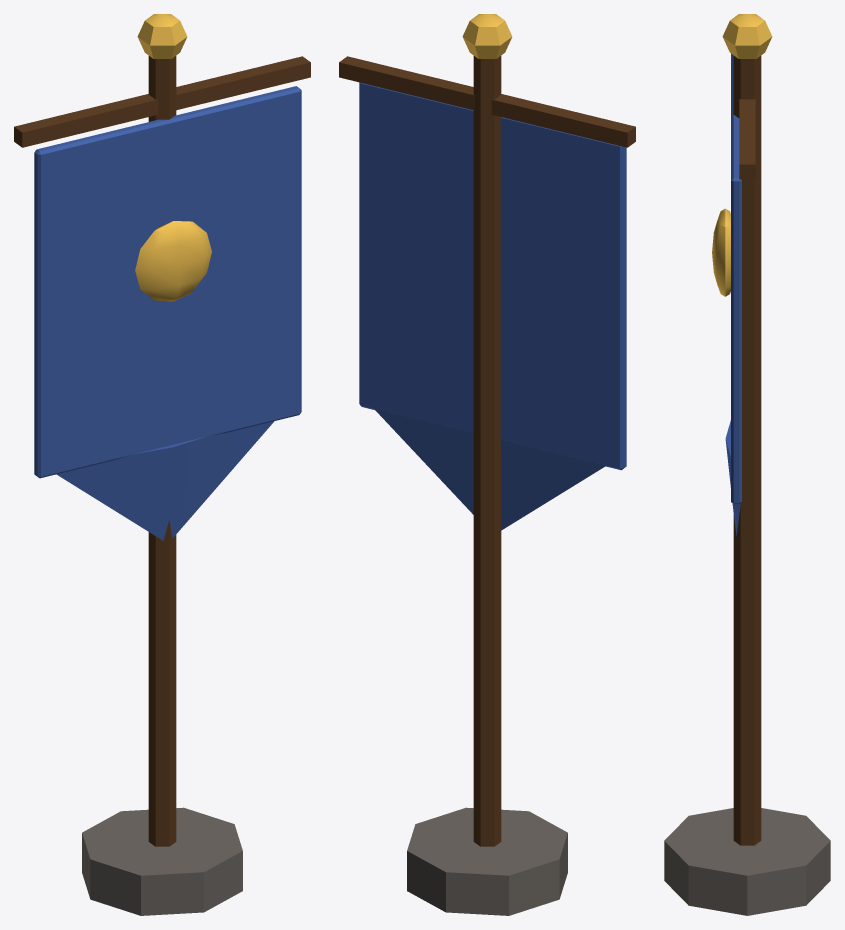
The model's file is PR_Decor_Flama.fbx.
3 renders of one model, left to right at view 1: azimuth 30°, elevation 25°; view 2: azimuth 150°, elevation 25°; view 3: azimuth 270°, elevation 25°, orthographic.
Parts seen in each view (by area): view 1: PR_Decor_Flama; view 2: PR_Decor_Flama; view 3: PR_Decor_Flama.
Boxes of the visible parts, x1=… form: PR_Decor_Flama: x1=14, y1=14, x2=310, y2=915; PR_Decor_Flama: x1=339, y1=14, x2=635, y2=915; PR_Decor_Flama: x1=664, y1=14, x2=830, y2=915.
Size of the model in its own units: 0.6 by 1.72 by 0.3.
1 material, 1 textured.
